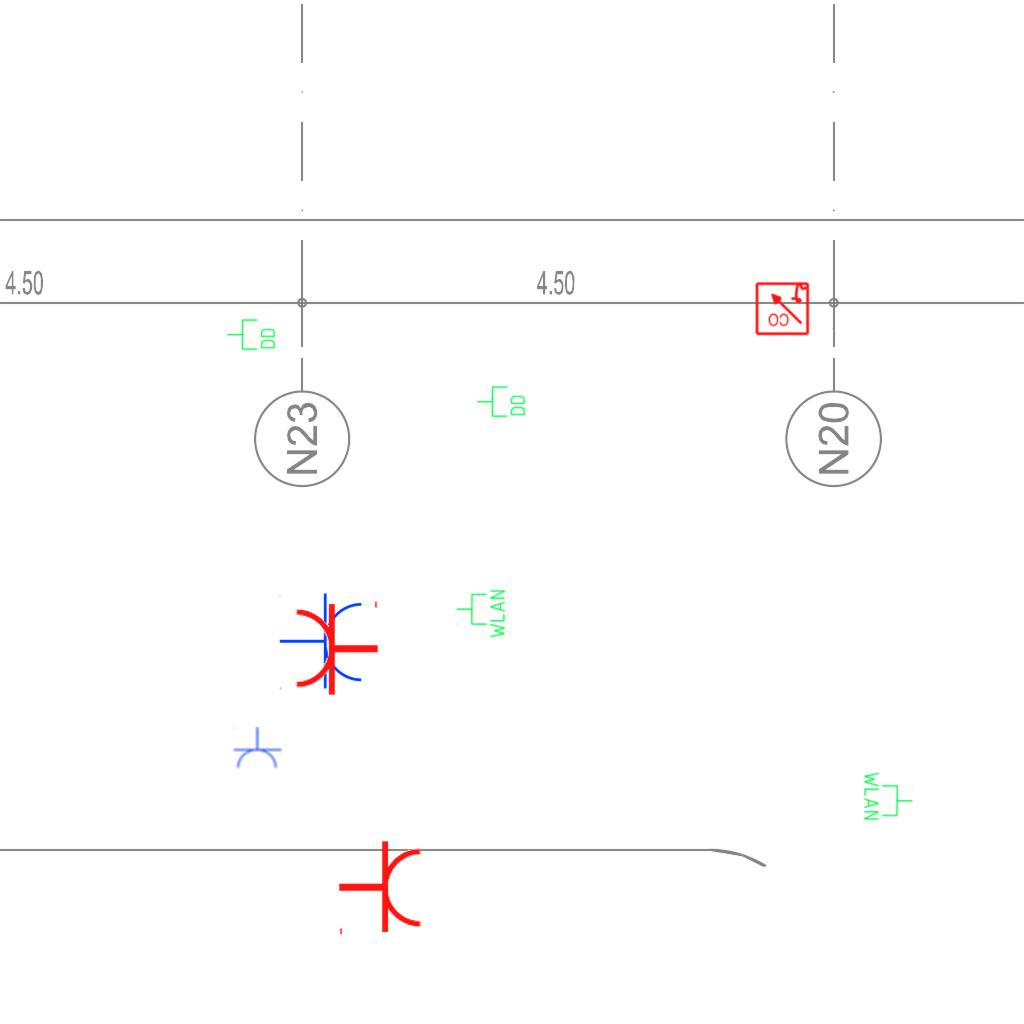Datenanschluss_zweifach: (226, 318, 277, 352), (476, 385, 527, 419)
ROA_Rauchmelder_optisch_mit_Signalgeber_(Sockelsirene): (754, 280, 810, 336)
Schukosteckdose_einfach: (337, 839, 424, 939), (279, 592, 366, 692), (293, 597, 380, 697), (232, 727, 282, 770)
WLAN: (862, 770, 914, 822), (455, 588, 507, 640)
